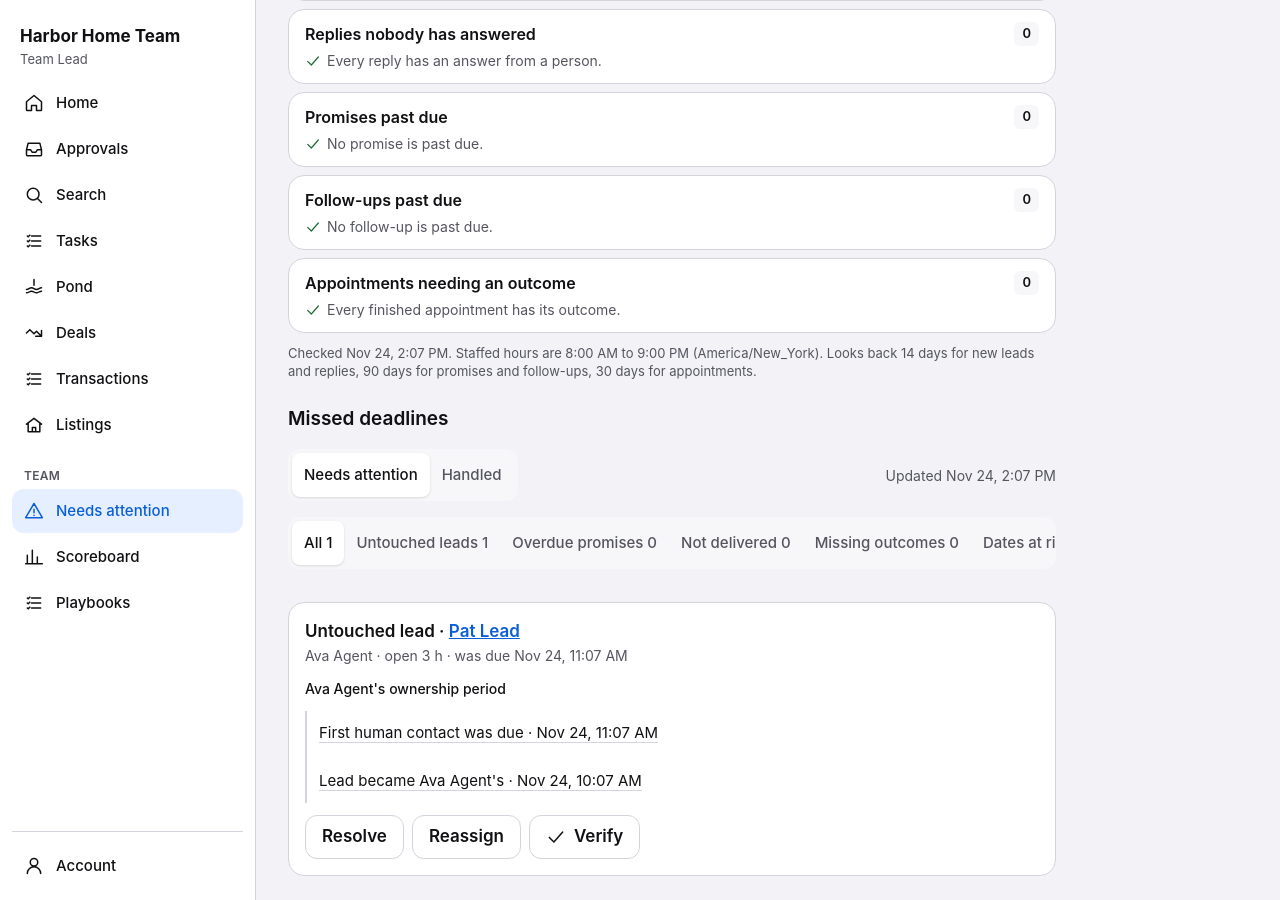
it: Team exception queue › ARCHITECTURE §1 benchmark: a Team Lead reassigns from the exception in 2 taps (Reassign → agent), one command id per tap, never to the current owner
(page scrolled)
Click the button "Reassign": (466, 837) left=412, top=815, right=521, bottom=859
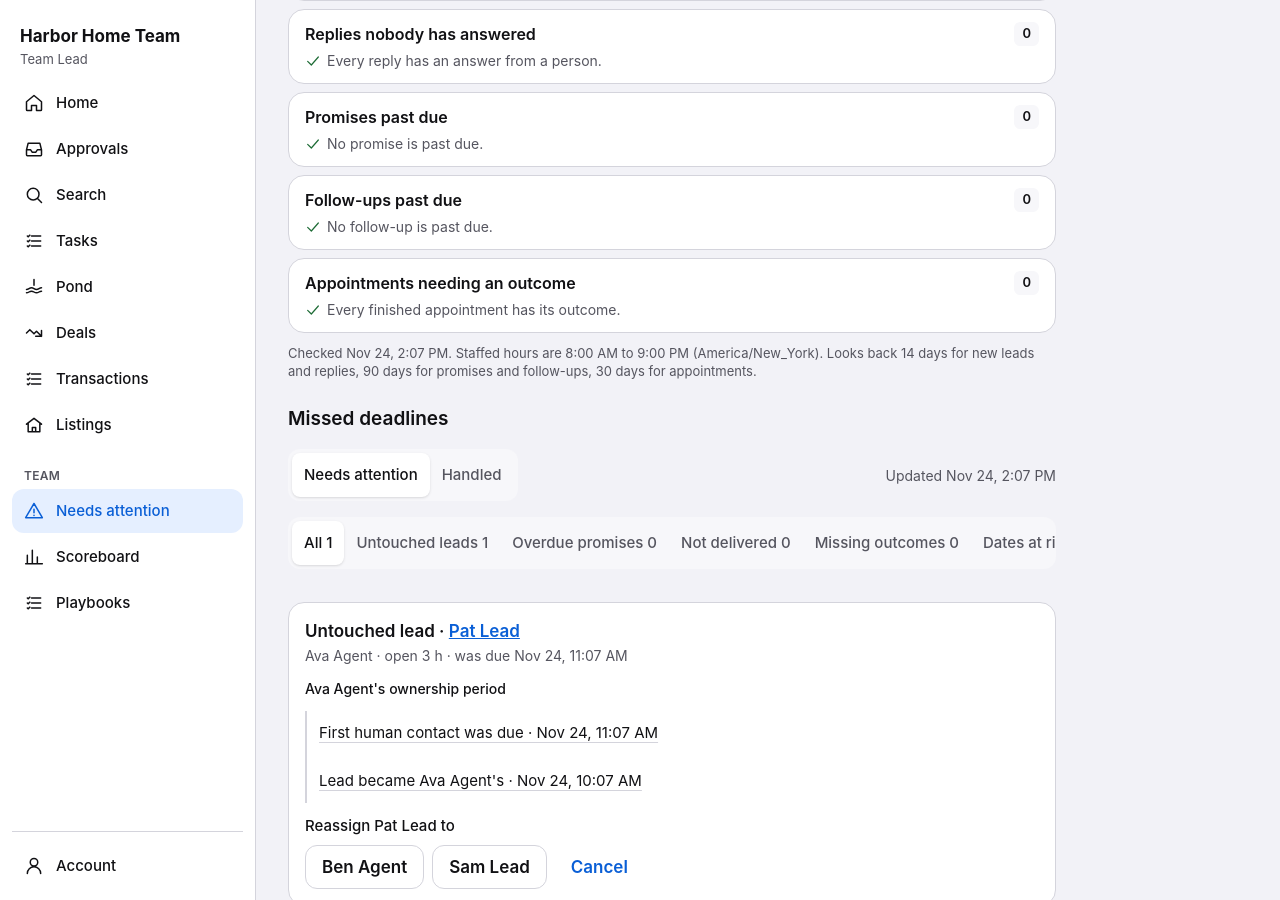
Click the button "Ben Agent": (365, 867) left=305, top=845, right=424, bottom=889
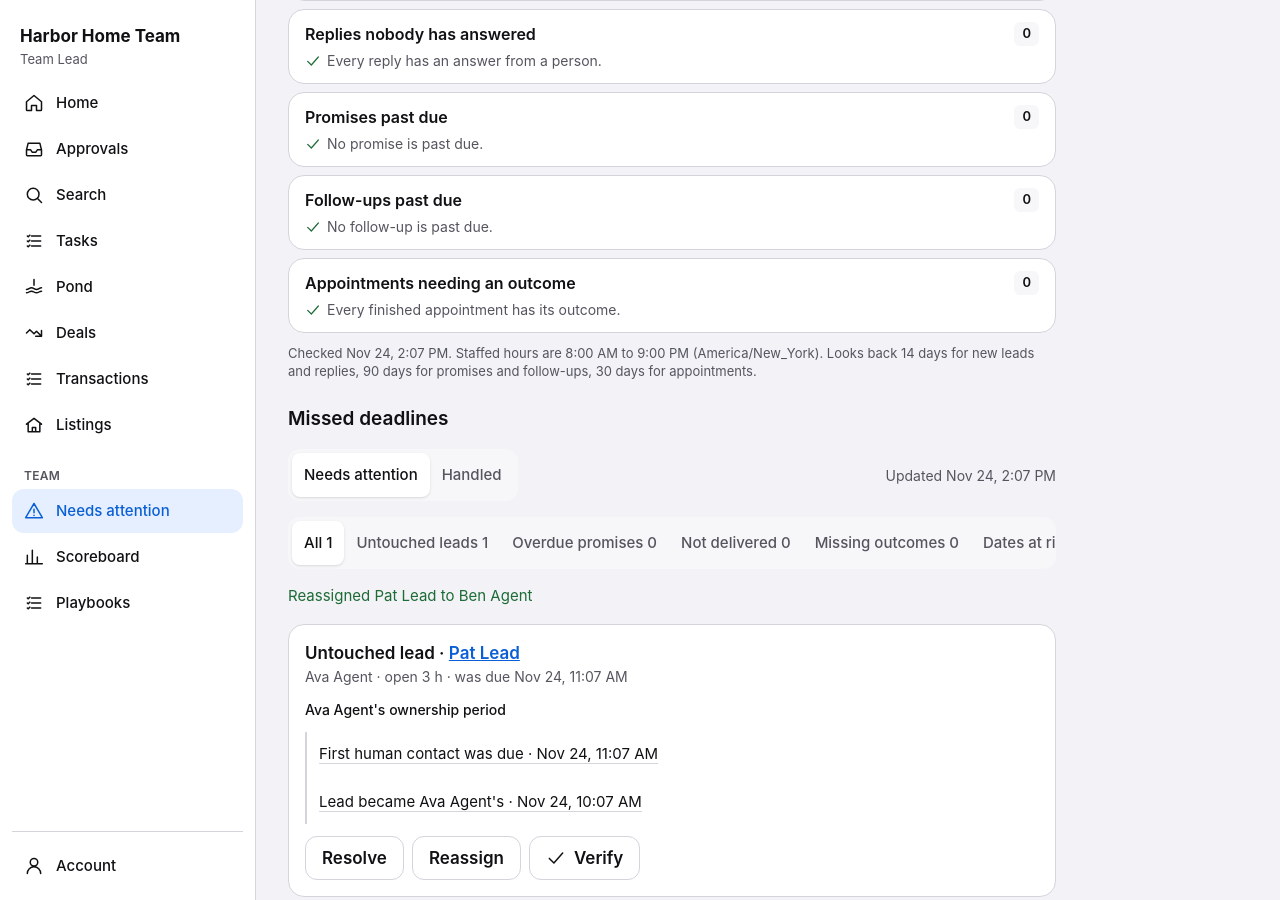
Now the text "Reassigned Pat Lead to Ben Agent" is shown, box left=288, top=586, right=532, bottom=605
